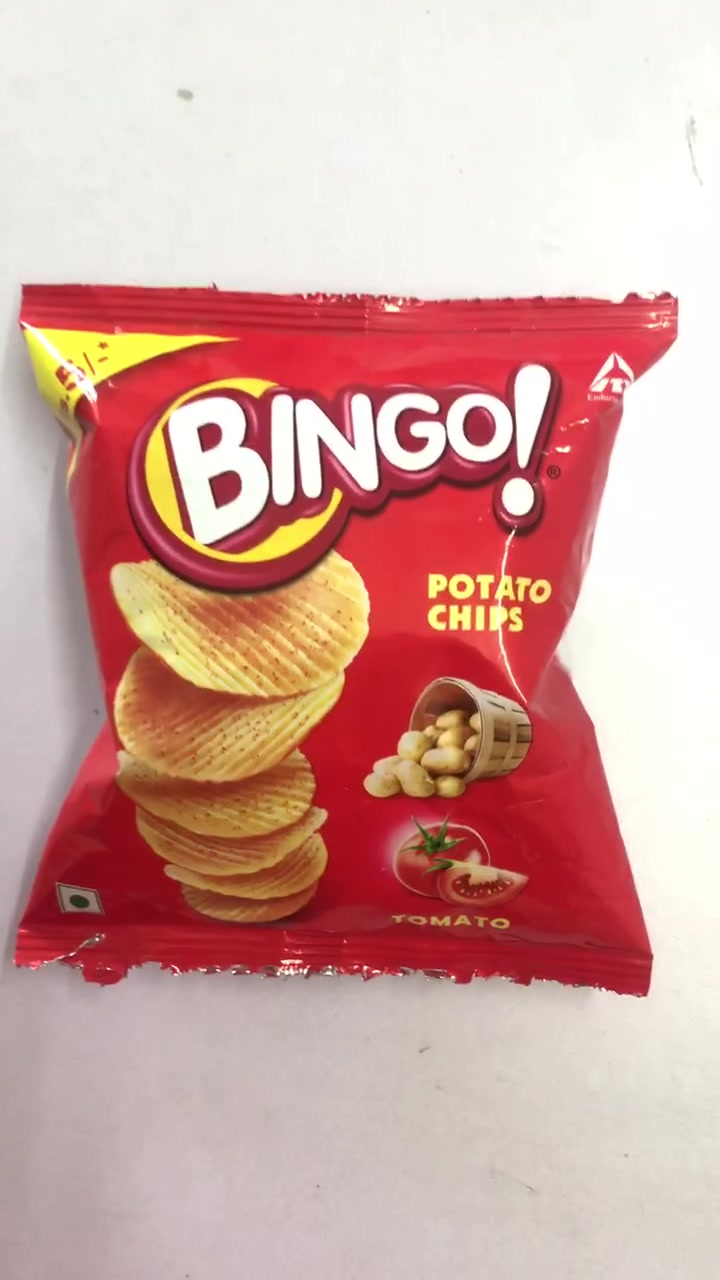Bingo: (21, 282, 660, 981)
